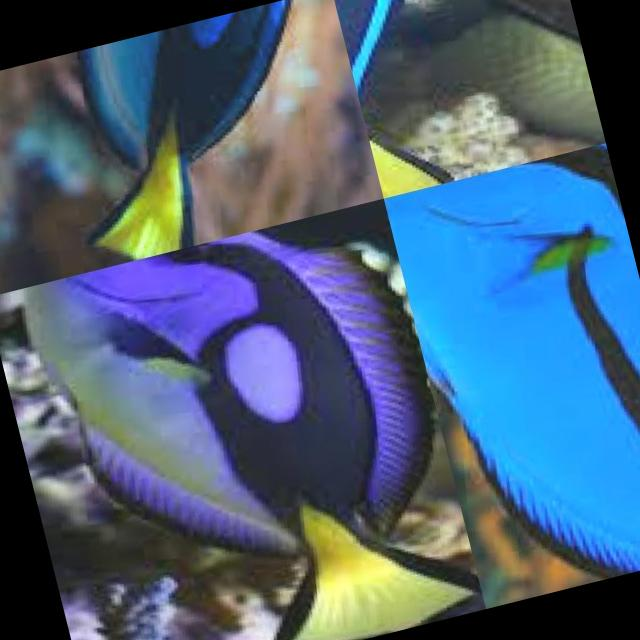BlueTang: (18, 198, 484, 640), (382, 142, 640, 608), (47, 0, 347, 271), (330, 0, 466, 198)
